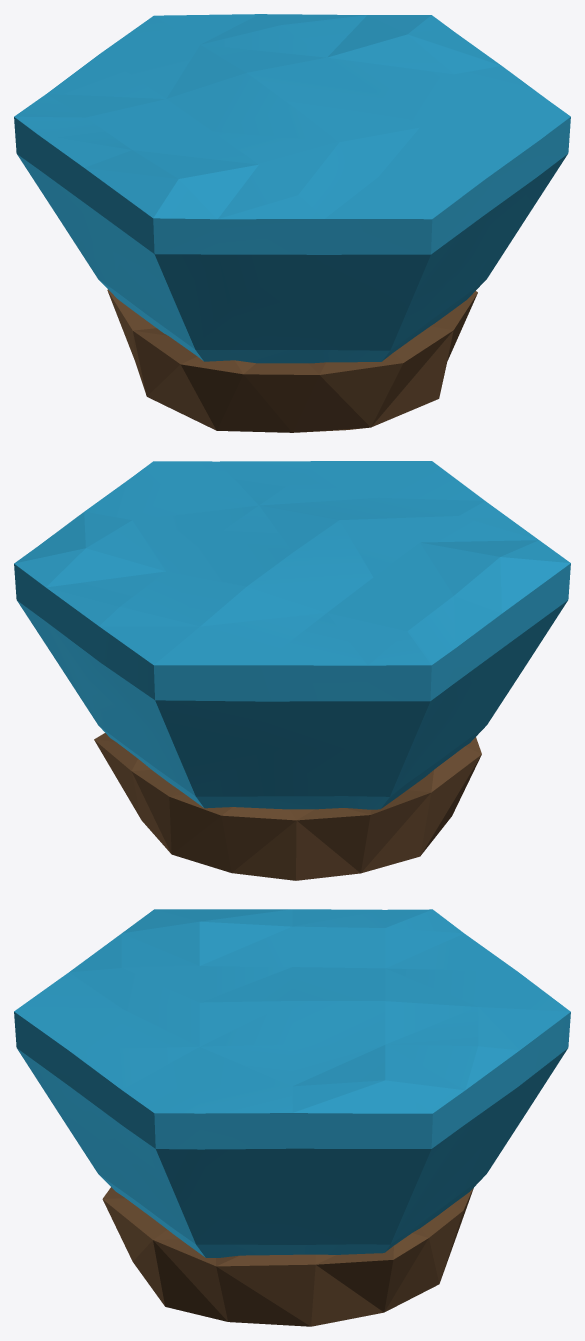
The model's file is terrains_hexagon-water.fbx.
The picture shows the model from 3 angles, top to bottom: view 1: azimuth 30°, elevation 25°; view 2: azimuth 150°, elevation 25°; view 3: azimuth 270°, elevation 25°; orthographic projection.
Parts seen in each view (by area): view 1: terrains_hexagon_water; view 2: terrains_hexagon_water; view 3: terrains_hexagon_water.
Boxes of the visible parts, bbox=[...] form: terrains_hexagon_water: bbox=[14, 14, 570, 432]; terrains_hexagon_water: bbox=[14, 461, 570, 880]; terrains_hexagon_water: bbox=[14, 909, 570, 1326].
Bounding box in the file's own units: 173 × 120 × 200.
